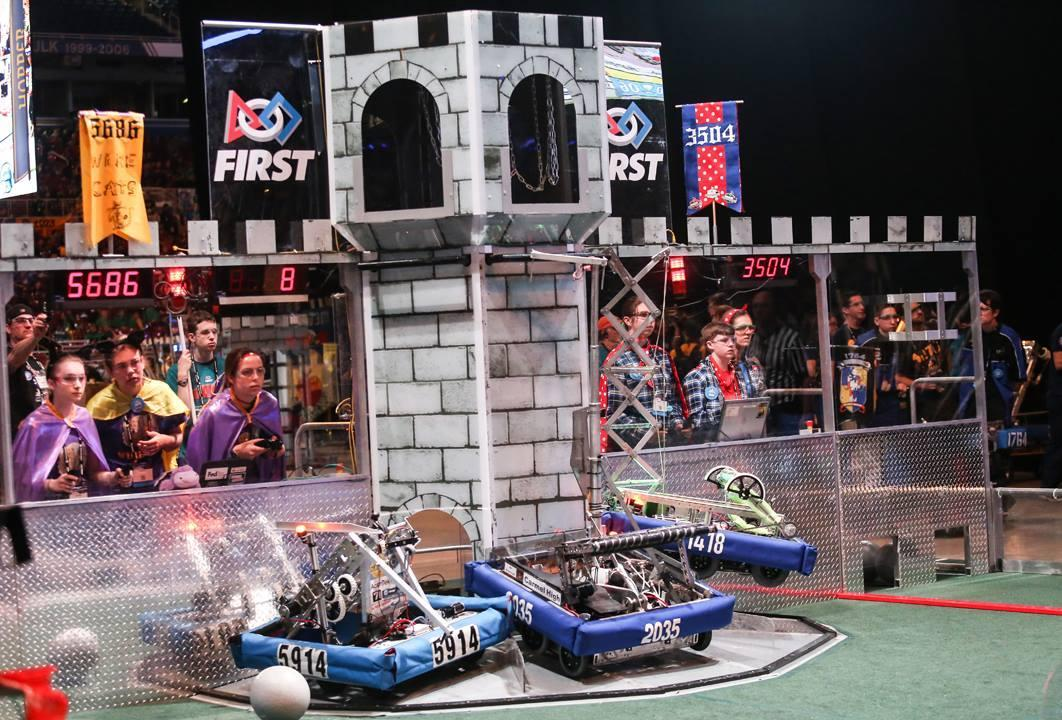robot: (460, 247, 739, 680), (596, 238, 821, 593), (231, 504, 520, 701)
